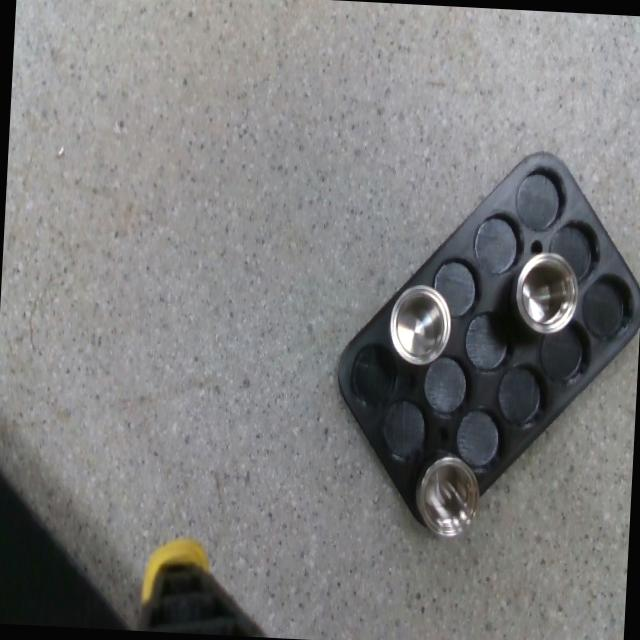sensor: (415, 455, 481, 538), (514, 251, 580, 333), (388, 284, 452, 366)
